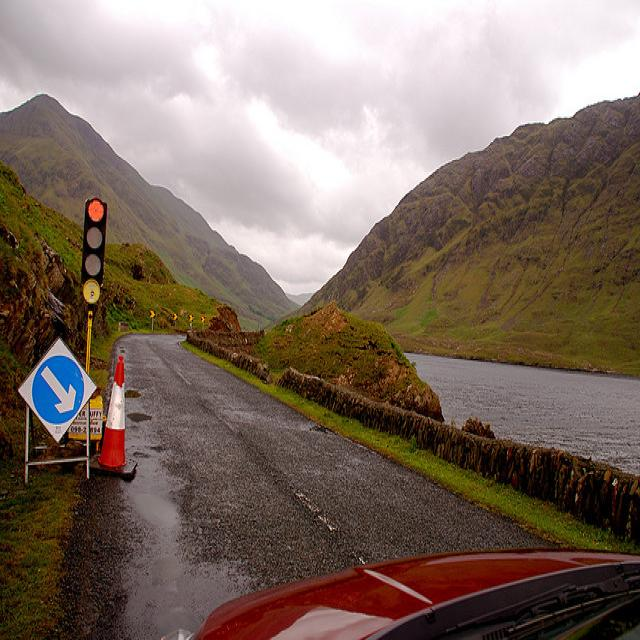Vehicle: (198, 548, 640, 633)
